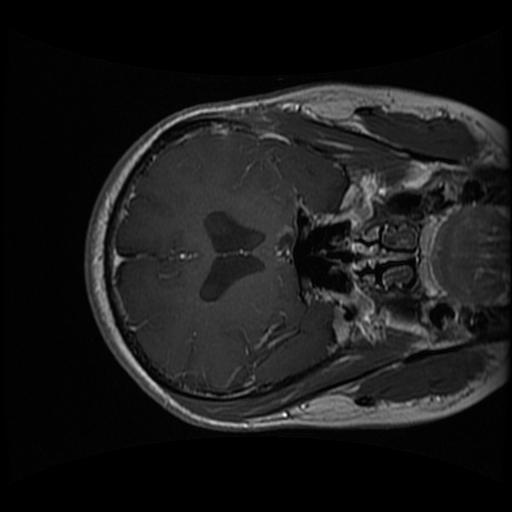glioma: (271, 221, 295, 265)
